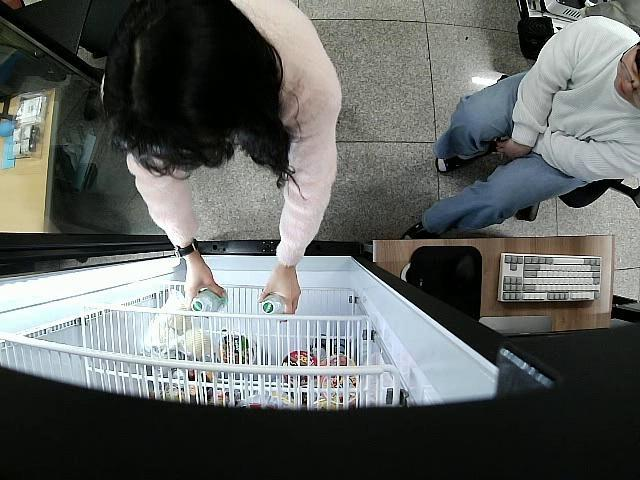18_trevi: (190, 290, 228, 315), (259, 292, 288, 315)
